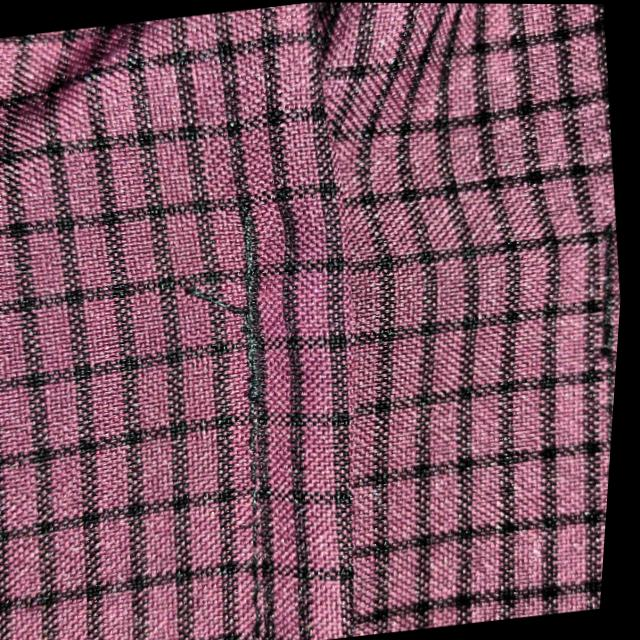Stitch: (149, 260, 322, 344)
